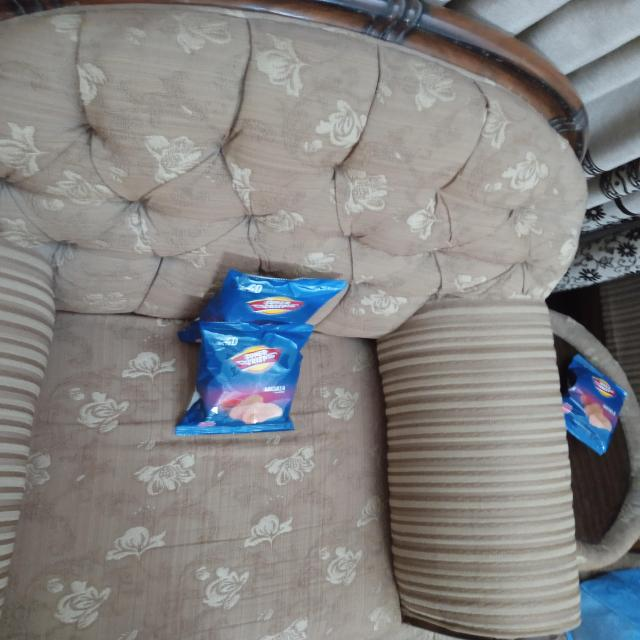Plastic: (177, 326, 306, 437), (205, 264, 347, 324)
